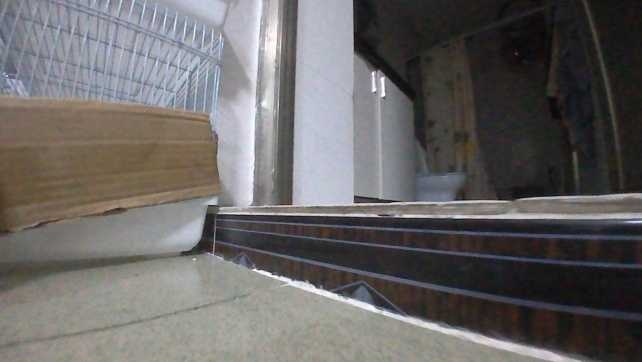door_sill: (205, 192, 640, 360)
toilet: (411, 138, 466, 200)
